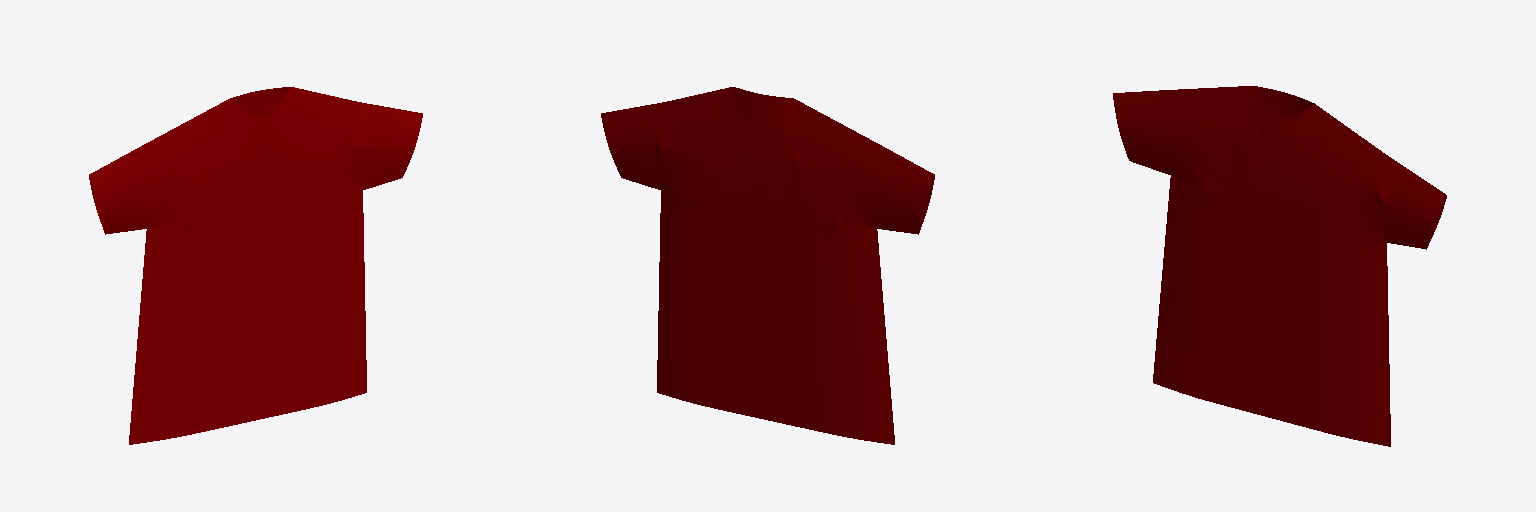
File: T-Shirt.obj
The picture shows the model from 3 angles: view 1: azimuth 30°, elevation 25°; view 2: azimuth 150°, elevation 25°; view 3: azimuth 330°, elevation 25°; orthographic projection.
Parts seen in each view (by area): view 1: T-Shirt_Mesh; view 2: T-Shirt_Mesh; view 3: T-Shirt_Mesh.
Part boxes in pixels (bbox=[...]): T-Shirt_Mesh: bbox=[89, 87, 422, 444]; T-Shirt_Mesh: bbox=[601, 87, 934, 444]; T-Shirt_Mesh: bbox=[1113, 86, 1446, 446].
Size of the model in its own units: 1.55 by 1.45 by 0.0552.